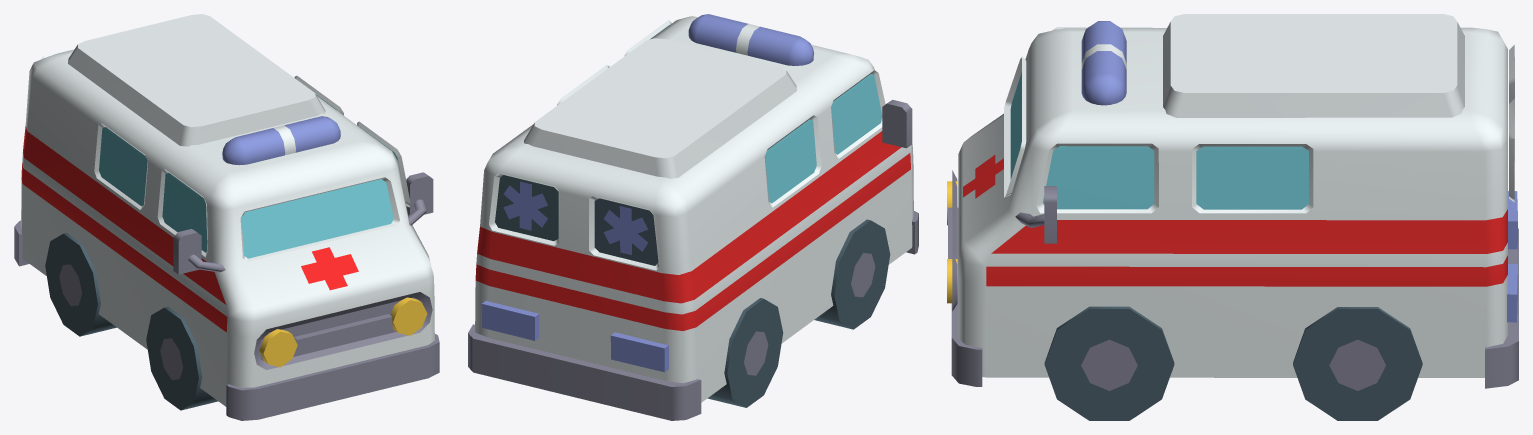
File: Ambulance_001.fbx
The picture shows the model from 3 angles, left to right: view 1: azimuth 30°, elevation 25°; view 2: azimuth 150°, elevation 25°; view 3: azimuth 270°, elevation 25°; orthographic projection. The views are drawn at different scales.
Visible parts, largest first — view 1: Ambulance_001, Wheel_001; view 2: Ambulance_001, Wheel_001; view 3: Ambulance_001, Wheel_001.
Part boxes in pixels (x1=…): Ambulance_001: x1=14, y1=14, x2=439, y2=420; Wheel_001: x1=45, y1=233, x2=218, y2=410; Ambulance_001: x1=468, y1=14, x2=918, y2=420; Wheel_001: x1=707, y1=219, x2=890, y2=407; Ambulance_001: x1=947, y1=14, x2=1518, y2=388; Wheel_001: x1=1044, y1=306, x2=1422, y2=420.
Bounding box in the file's own units: 2.08 × 1.96 × 3.28.
